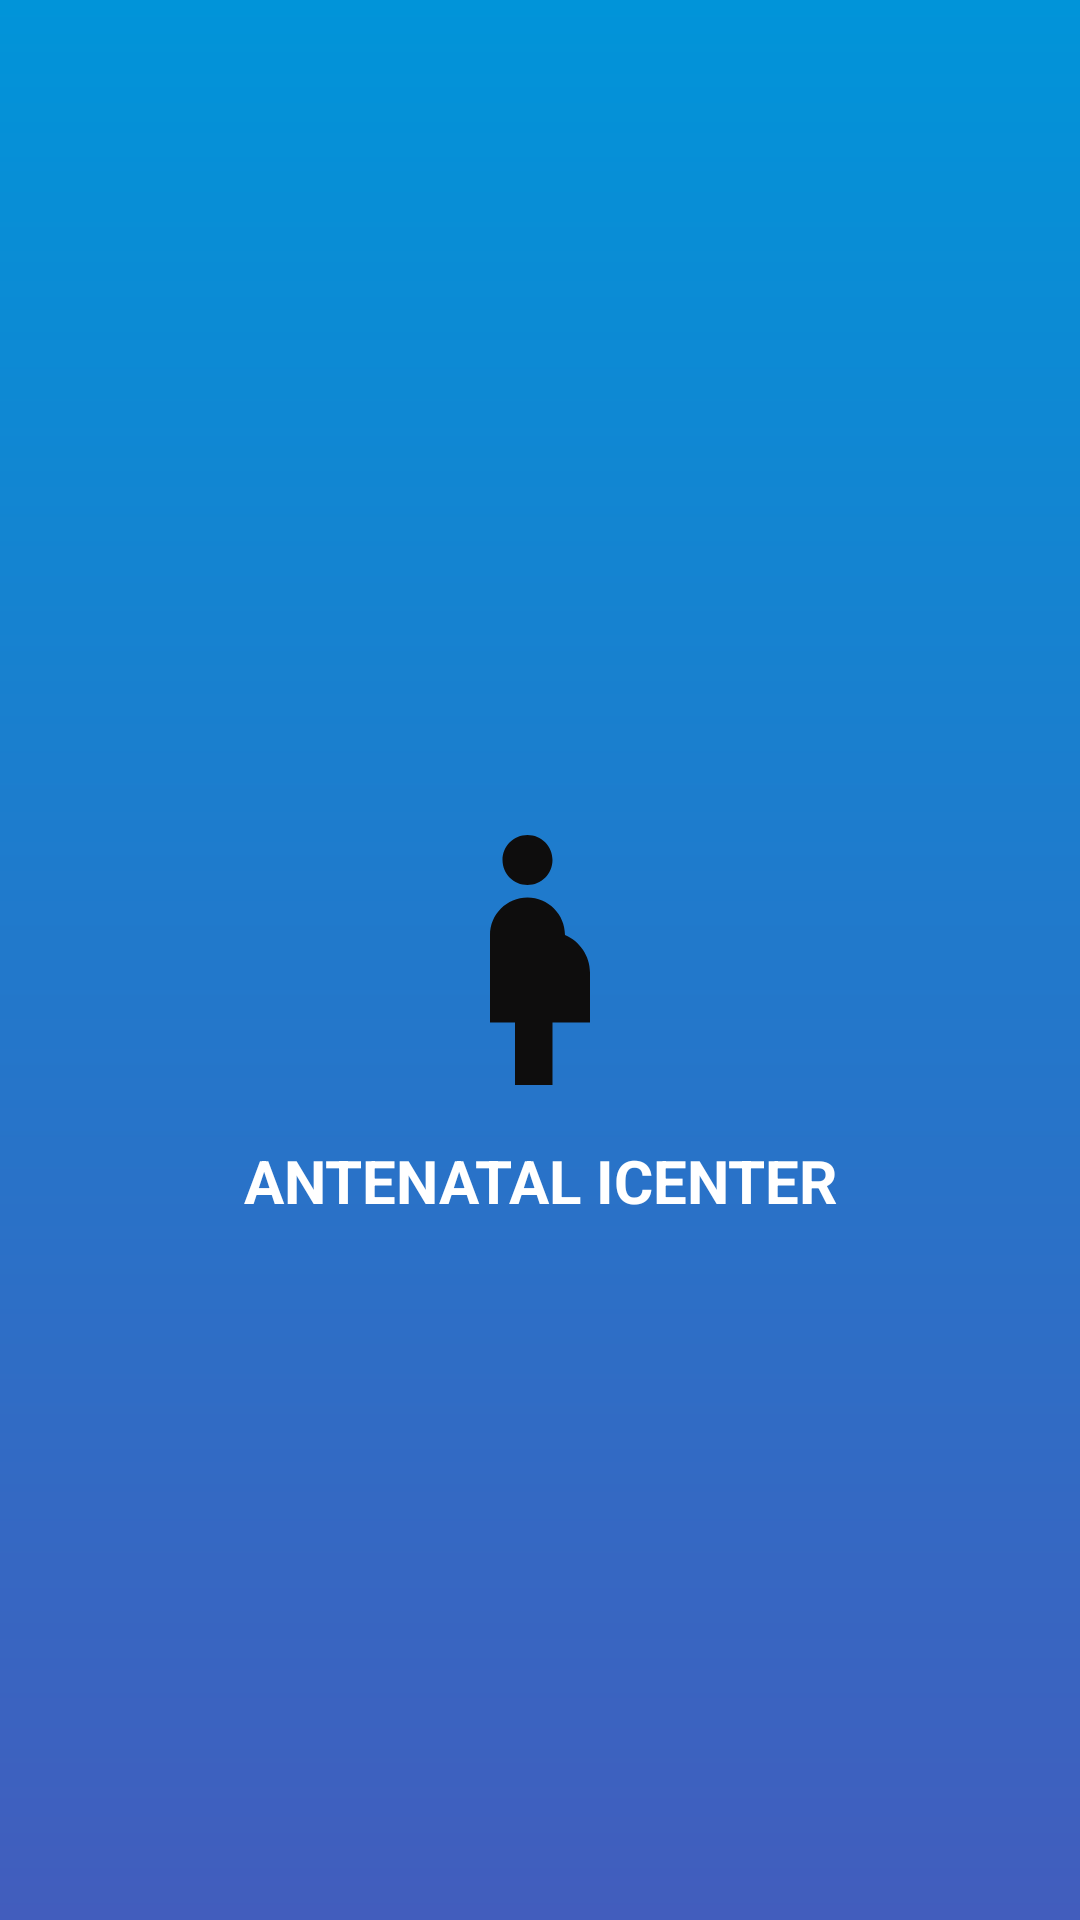

Point at icon controls on the screen. Image size 1080 x 1920, points as (x,y).
pregnant woman: (540,960)
